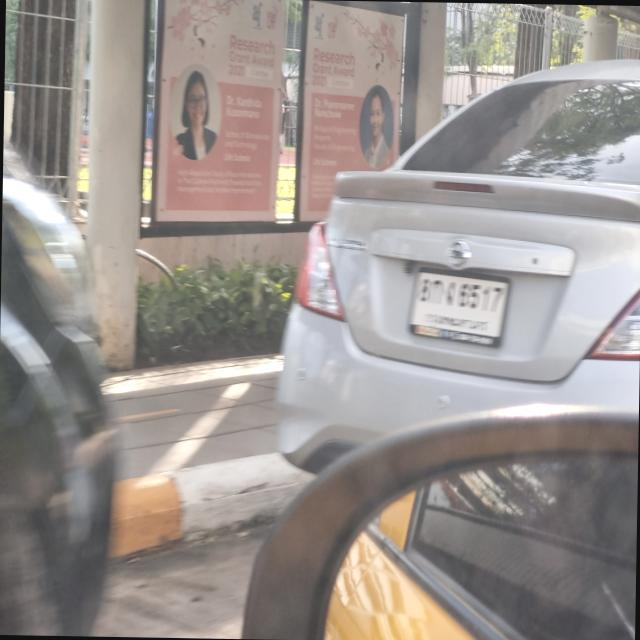license_plate: (408, 262, 511, 348)
